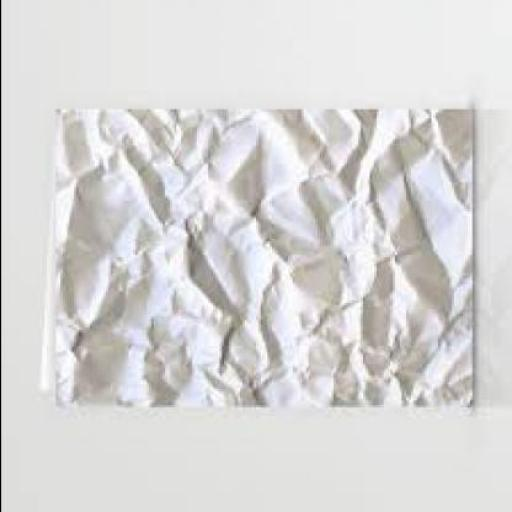paper: (36, 105, 471, 405)
